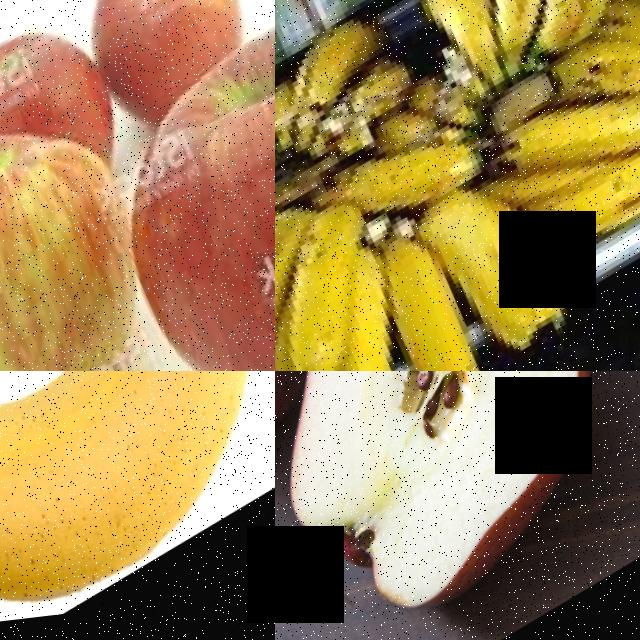apple: (275, 371, 640, 640), (42, 0, 275, 371), (0, 44, 241, 371), (48, 0, 275, 147), (0, 0, 95, 151)
banana: (0, 371, 275, 640), (414, 150, 604, 371), (350, 216, 540, 371), (496, 45, 640, 229), (275, 244, 481, 371), (275, 196, 421, 371), (510, 117, 640, 296), (275, 0, 431, 129), (275, 185, 377, 371), (397, 0, 528, 122), (529, 21, 640, 160), (489, 0, 640, 74), (441, 0, 574, 81)
